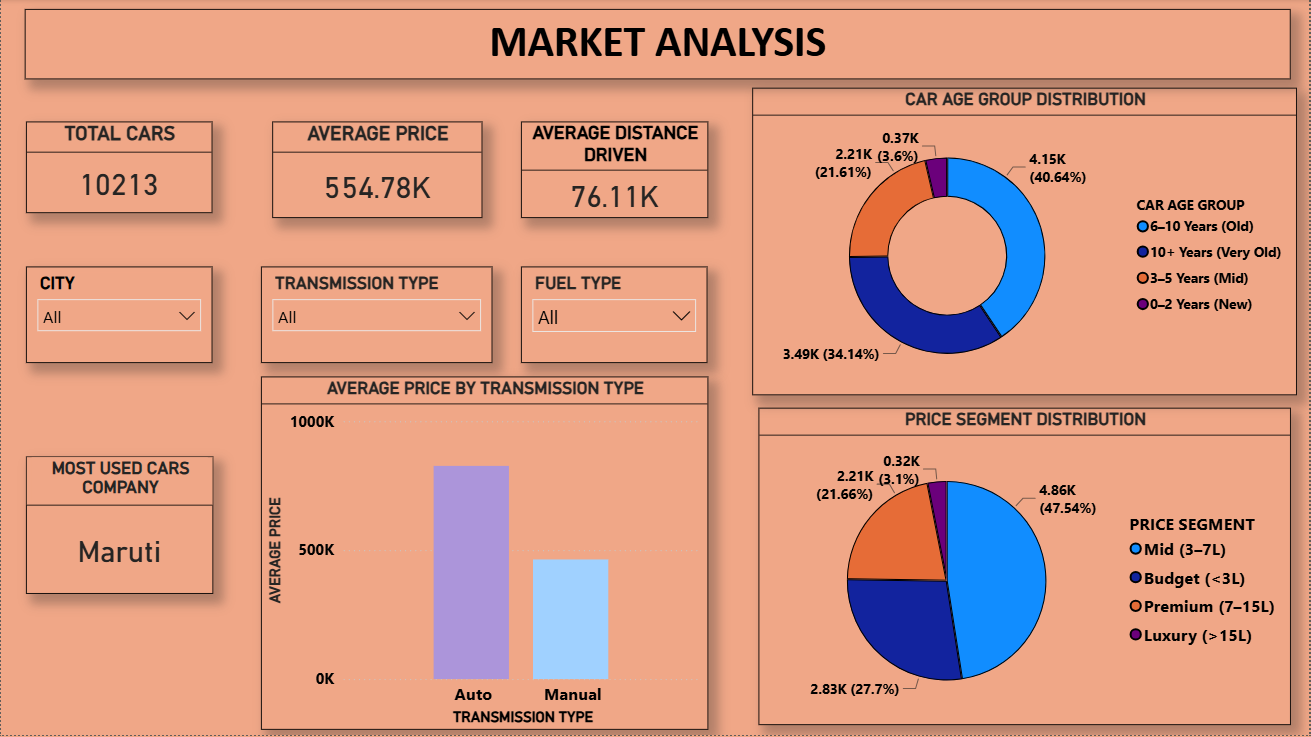

What the dashboard file says about the page in this screenshot:
{"tool":"powerbi","page":{"name":"MARKET ANALYSIS","canvas":[1280,720],"ordinal":0},"visuals":[{"type":"card","title":"TOTAL CARS","fields":{"Values":["CountNonNull(Cars24_data.Car Name)"]},"box":[24.5,119.8,182.2,89.3],"z":0},{"type":"card","title":"AVERAGE DISTANCE DRIVEN","fields":{"Values":["Avg(Cars24_data.Distance Driven)"]},"box":[508.7,119.8,183.4,94.2],"z":1000},{"type":"card","title":"AVERAGE PRICE","fields":{"Values":["Avg(Cars24_data.Price)"]},"box":[265.4,119.8,205.4,94.2],"z":2000},{"type":"pieChart","title":"PRICE SEGMENT DISTRIBUTION","fields":{"Category":["Cars24_data.Price Segment"],"Y":["CountNonNull(Cars24_data.Car Name)"]},"box":[741,399.9,520.9,310.6],"z":3000},{"type":"slicer","fields":{"Values":["Cars24_data.City"]},"box":[24.5,261.7,182.2,94.2],"z":4000},{"type":"slicer","fields":{"Values":["Cars24_data.Fuel Type"]},"box":[508.7,261.7,182.2,94.2],"z":5000},{"type":"slicer","fields":{"Values":["Cars24_data.Transmission Type"]},"box":[254.3,261.7,226.2,94.2],"z":6000},{"type":"donutChart","title":"CAR AGE GROUP DISTRIBUTION","fields":{"Category":["Cars24_data.Car Age Group"],"Y":["CountNonNull(Cars24_data.Car Name)"]},"box":[734.9,86.8,533.2,300.8],"z":7000},{"type":"textbox","box":[23.2,9.8,1238.7,68.5],"z":8000},{"type":"card","title":"MOST USED CARS COMPANY","fields":{"Values":["Min(Cars24_data.Company)"]},"box":[24.5,447.6,183.4,134.5],"z":9000},{"type":"clusteredColumnChart","title":"AVERAGE PRICE BY TRANSMISSION TYPE","fields":{"Category":["Cars24_data.Transmission Type"],"Y":["Avg(Cars24_data.Price)"]},"box":[253.9,369.1,437.7,345.8],"z":10000}]}

Visuals, with their boxes in screenshot pixels (x1, y1, x2, y2), scaled from the page's 1280x720 canvas onto the 1311x737 screenshot:
"TOTAL CARS" card: x1=25 y1=123 x2=212 y2=214
"AVERAGE DISTANCE DRIVEN" card: x1=521 y1=123 x2=709 y2=219
"AVERAGE PRICE" card: x1=272 y1=123 x2=482 y2=219
"PRICE SEGMENT DISTRIBUTION" pieChart: x1=759 y1=409 x2=1292 y2=727
slicer - Cars24_data.City: x1=25 y1=268 x2=212 y2=364
slicer - Cars24_data.Fuel Type: x1=521 y1=268 x2=708 y2=364
slicer - Cars24_data.Transmission Type: x1=260 y1=268 x2=492 y2=364
"CAR AGE GROUP DISTRIBUTION" donutChart: x1=753 y1=89 x2=1299 y2=397
textbox: x1=24 y1=10 x2=1292 y2=80
"MOST USED CARS COMPANY" card: x1=25 y1=458 x2=213 y2=596
"AVERAGE PRICE BY TRANSMISSION TYPE" clusteredColumnChart: x1=260 y1=378 x2=708 y2=732
